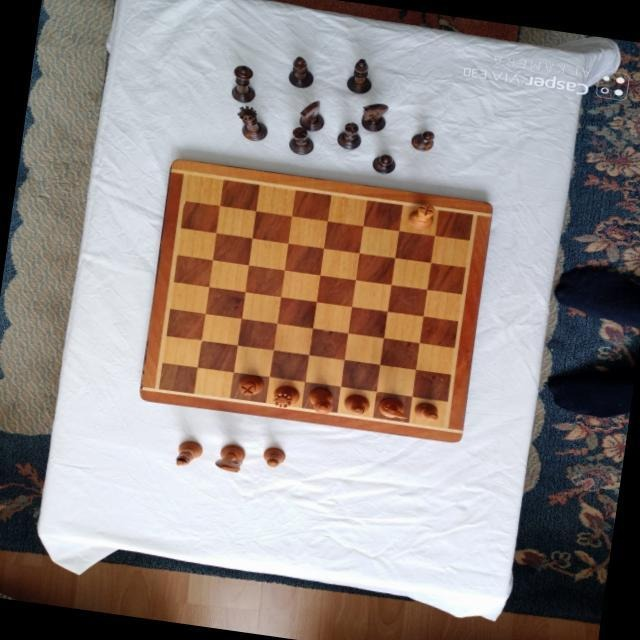black-bishop: (344, 56, 375, 94), (287, 54, 317, 89)
black-king: (228, 64, 259, 104)
black-knight: (297, 98, 327, 133), (360, 99, 390, 132)
black-pawn: (409, 127, 435, 152), (371, 152, 397, 175)
black-queen: (234, 103, 270, 141)
black-rook: (287, 124, 317, 155), (335, 121, 364, 151)
white-bishop: (172, 438, 204, 470), (341, 391, 371, 417)
white-king: (306, 385, 337, 415)
white-knight: (212, 441, 248, 475), (378, 396, 410, 420)
white-pawn: (261, 445, 286, 468), (412, 399, 439, 420)
white-queen: (271, 382, 301, 410)
white-rook: (406, 200, 435, 228), (237, 372, 265, 396)
